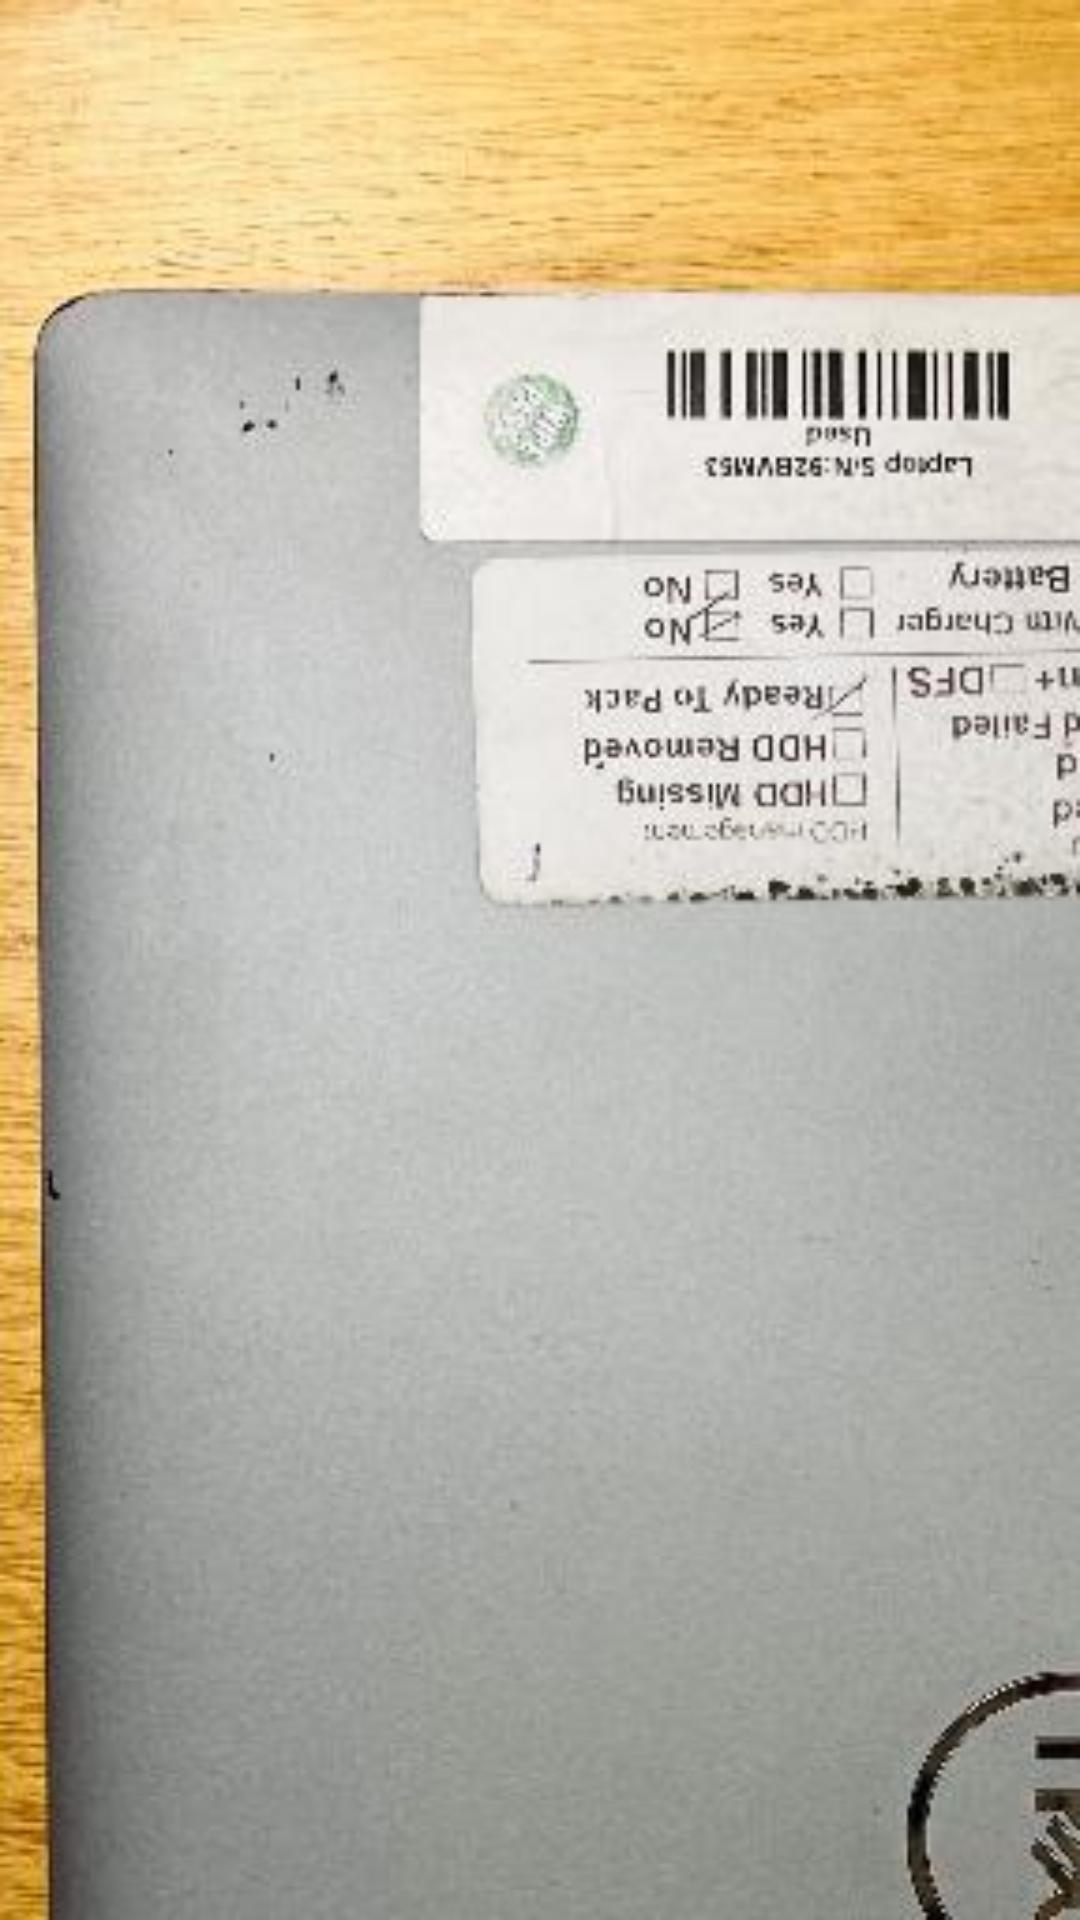chip: (45, 1168, 65, 1205), (326, 372, 347, 400), (265, 749, 281, 766), (240, 419, 255, 435), (237, 398, 253, 411), (164, 447, 177, 463), (266, 418, 277, 433), (295, 377, 303, 392)
scratches: (795, 1224, 840, 1244)
